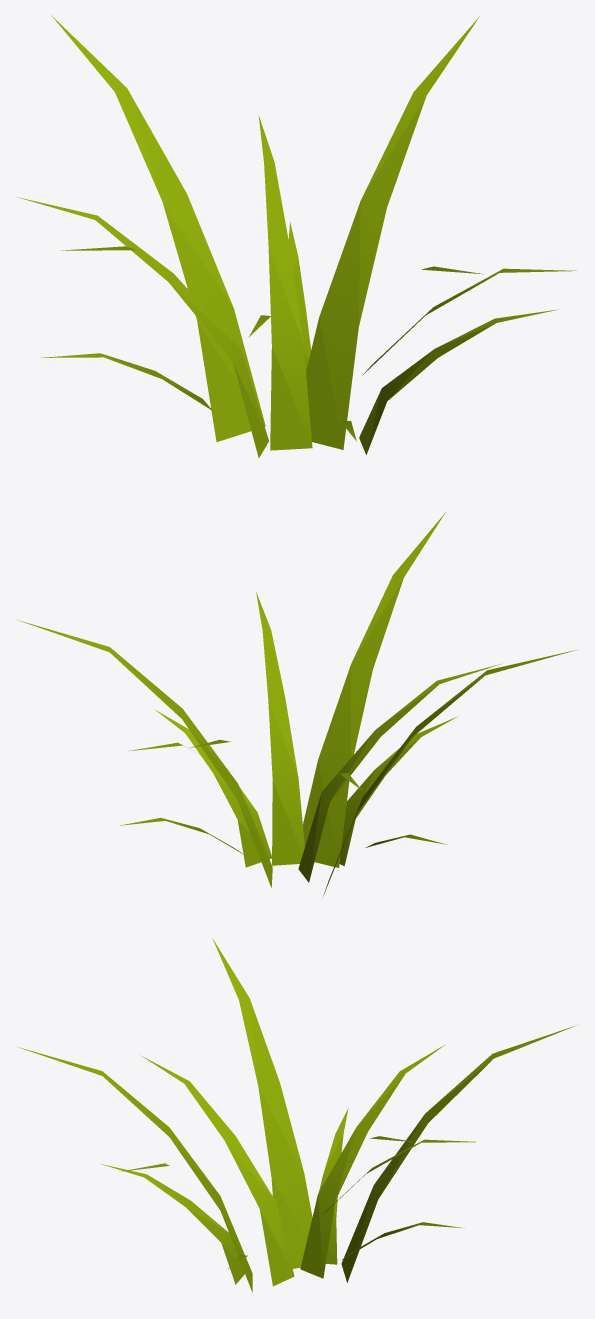
The model's file is Grass %231.glb.
The picture shows the model from 3 angles, top to bottom: view 1: azimuth 30°, elevation 25°; view 2: azimuth 150°, elevation 25°; view 3: azimuth 270°, elevation 25°; orthographic projection. The views are drawn at different scales.
Visible parts, largest first — view 1: Mesh2 ElwFor_Grass01_C01_2 Model, Mesh4 ElwFor_Grass01_C01_3 Model, Mesh7 ElwFor_Grass01_C02_4 Model, Mesh5 ElwFor_Grass01_C02_2 Model, Mesh10 ElwFor_Grass01_C02_7 Model, Mesh9 ElwFor_Grass01_C02_6 Model, Mesh11 ElwFor_Grass01_C02_8 Model, Mesh8 ElwFor_Grass01_C02_5 Model; view 2: Mesh12 ElwFor_Grass01_C01_4 Model, Mesh8 ElwFor_Grass01_C02_5 Model, Mesh3 ElwFor_Grass01_C02_1 Model, Mesh2 ElwFor_Grass01_C01_2 Model, Mesh10 ElwFor_Grass01_C02_7 Model, Mesh6 ElwFor_Grass01_C02_3 Model, Mesh1 ElwFor_Grass01_C01_1 Model; view 3: Mesh1 ElwFor_Grass01_C01_1 Model, Mesh5 ElwFor_Grass01_C02_2 Model, Mesh3 ElwFor_Grass01_C02_1 Model, Mesh4 ElwFor_Grass01_C01_3 Model, Mesh12 ElwFor_Grass01_C01_4 Model, Mesh6 ElwFor_Grass01_C02_3 Model, Mesh11 ElwFor_Grass01_C02_8 Model.
Boxes of the visible parts, x1,y1,x2,y2 form: Mesh2 ElwFor_Grass01_C01_2 Model: (306, 16, 479, 449); Mesh4 ElwFor_Grass01_C01_3 Model: (51, 15, 265, 441); Mesh7 ElwFor_Grass01_C02_4 Model: (258, 115, 312, 450); Mesh5 ElwFor_Grass01_C02_2 Model: (15, 196, 268, 458); Mesh10 ElwFor_Grass01_C02_7 Model: (359, 309, 559, 454); Mesh9 ElwFor_Grass01_C02_6 Model: (288, 222, 311, 370); Mesh11 ElwFor_Grass01_C02_8 Model: (41, 353, 213, 411); Mesh8 ElwFor_Grass01_C02_5 Model: (362, 268, 576, 375); Mesh12 ElwFor_Grass01_C01_4 Model: (303, 512, 445, 867); Mesh8 ElwFor_Grass01_C02_5 Model: (256, 592, 304, 865); Mesh3 ElwFor_Grass01_C02_1 Model: (298, 664, 500, 882); Mesh2 ElwFor_Grass01_C01_2 Model: (16, 619, 272, 887); Mesh10 ElwFor_Grass01_C02_7 Model: (155, 710, 271, 867); Mesh6 ElwFor_Grass01_C02_3 Model: (339, 716, 458, 866); Mesh1 ElwFor_Grass01_C01_1 Model: (323, 649, 577, 896); Mesh1 ElwFor_Grass01_C01_1 Model: (212, 938, 312, 1268); Mesh5 ElwFor_Grass01_C02_2 Model: (300, 1044, 445, 1278); Mesh3 ElwFor_Grass01_C02_1 Model: (140, 1055, 294, 1286); Mesh4 ElwFor_Grass01_C01_3 Model: (341, 1025, 577, 1282); Mesh12 ElwFor_Grass01_C01_4 Model: (16, 1046, 252, 1292); Mesh6 ElwFor_Grass01_C02_3 Model: (101, 1164, 244, 1284); Mesh11 ElwFor_Grass01_C02_8 Model: (319, 1108, 348, 1264).
Size of the model in its own units: 52 by 27.99 by 60.66.
